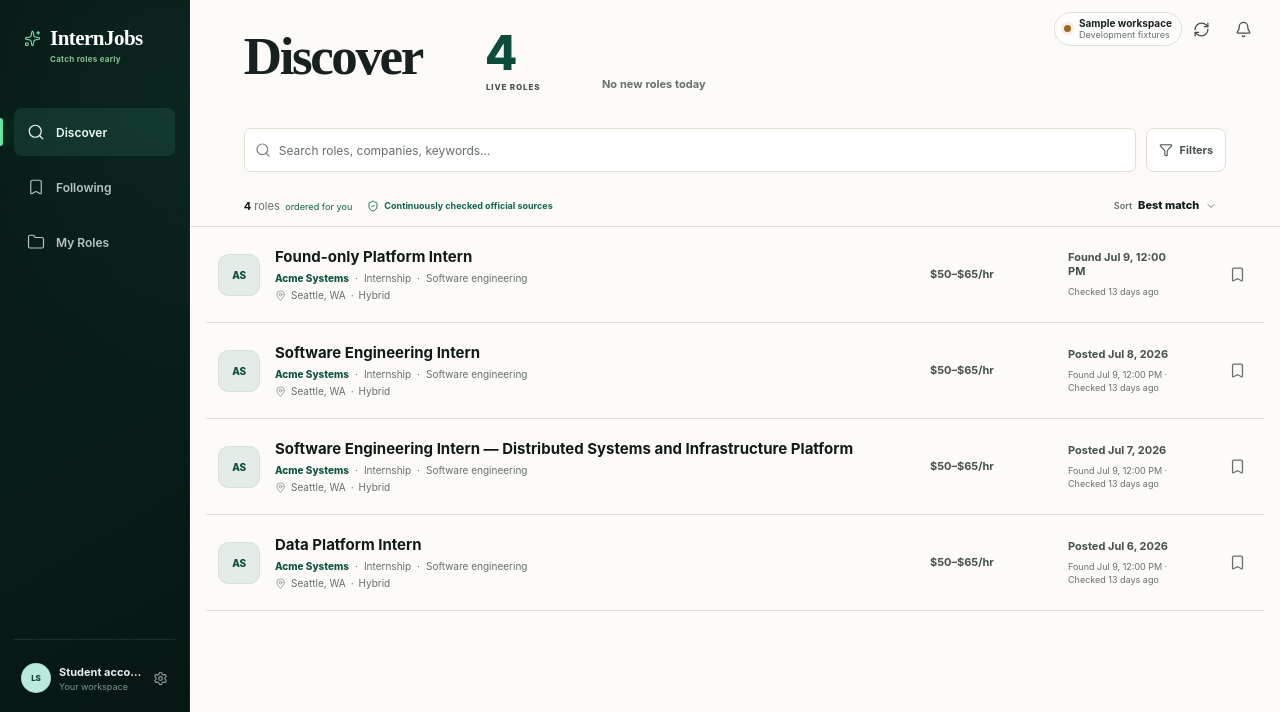
Test case: student workspace › shows only enabled-source postings while preserving posted-versus-found wording and search
The image size is (1280, 712).
Expected: the list item "Software Engineering Intern" is shown, top-left (275, 344), bottom-right (480, 362)
Expected: the text "Posted Jul 8, 2026" is shown, top-left (1068, 347), bottom-right (1168, 361)
Step 1. Type "Found-only" into the field labelled "Search roles" → (702, 150), box top-left (279, 131), bottom-right (1125, 169)
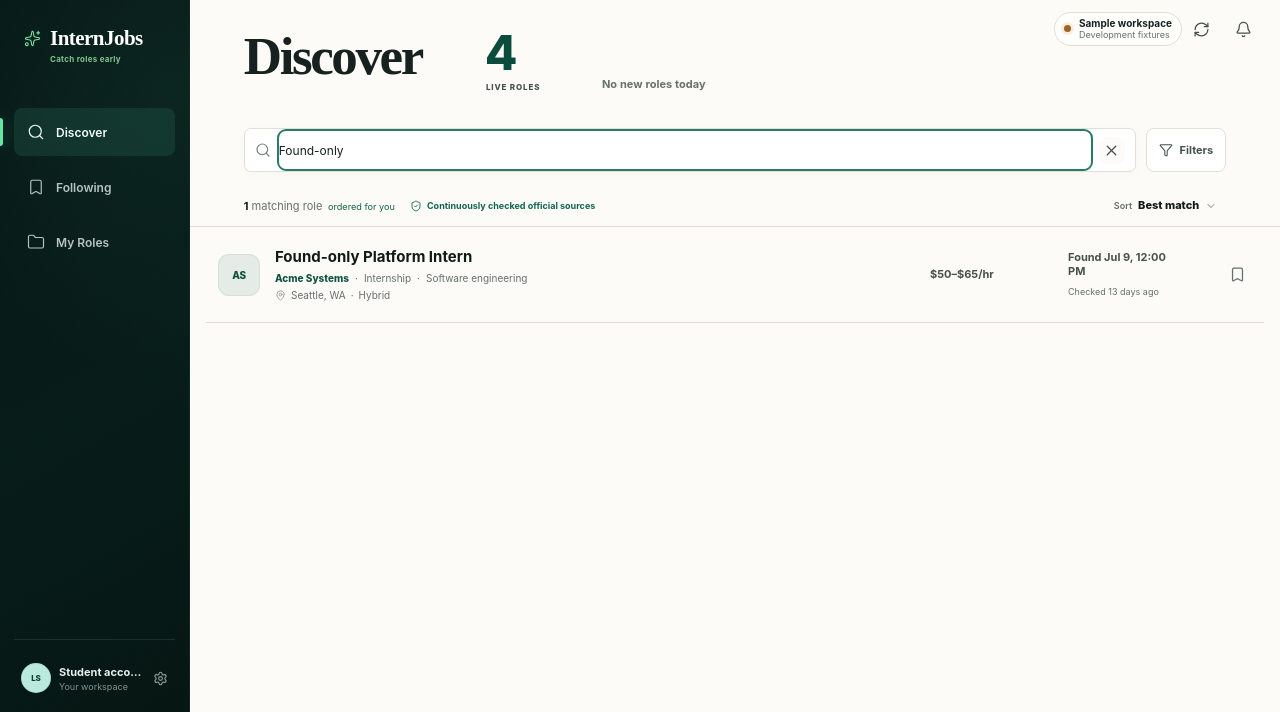
Now the text "Posted " is gone
Now the button "Software Engineering Intern" is gone
Now the text "matching role" shows "1 matching role", box top-left (244, 198), bottom-right (395, 212)
Step 2. Click the button named "Clear search" → (1112, 150), box top-left (1099, 136), bottom-right (1124, 164)
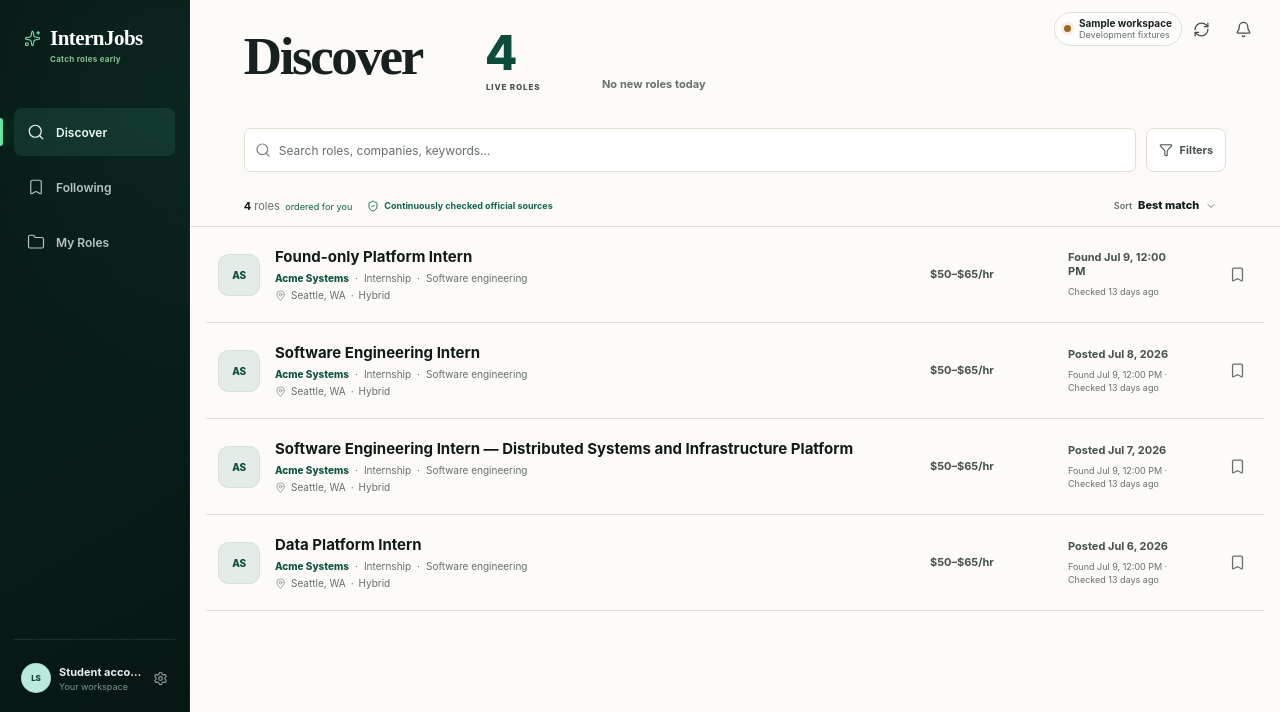
Now the button "Software Engineering Intern" is shown
Step 3. Click the button "Software Engineering Intern" → (378, 353), box top-left (275, 344), bottom-right (480, 362)
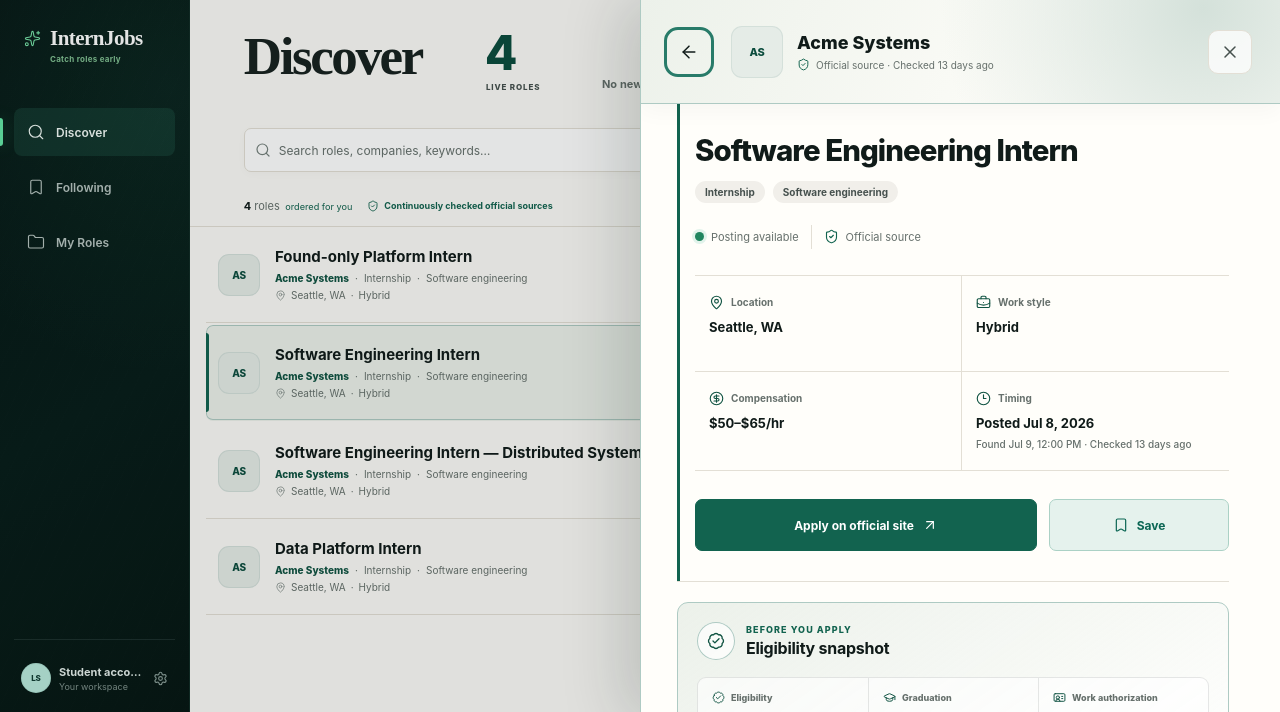
Now the text "Posted Jul 8, 2026" is shown, box top-left (976, 415), bottom-right (1094, 431)
Now the text "Found Jul 9, 12:00 PM · Checked 13 days ago" is shown, box top-left (976, 438), bottom-right (1215, 451)
